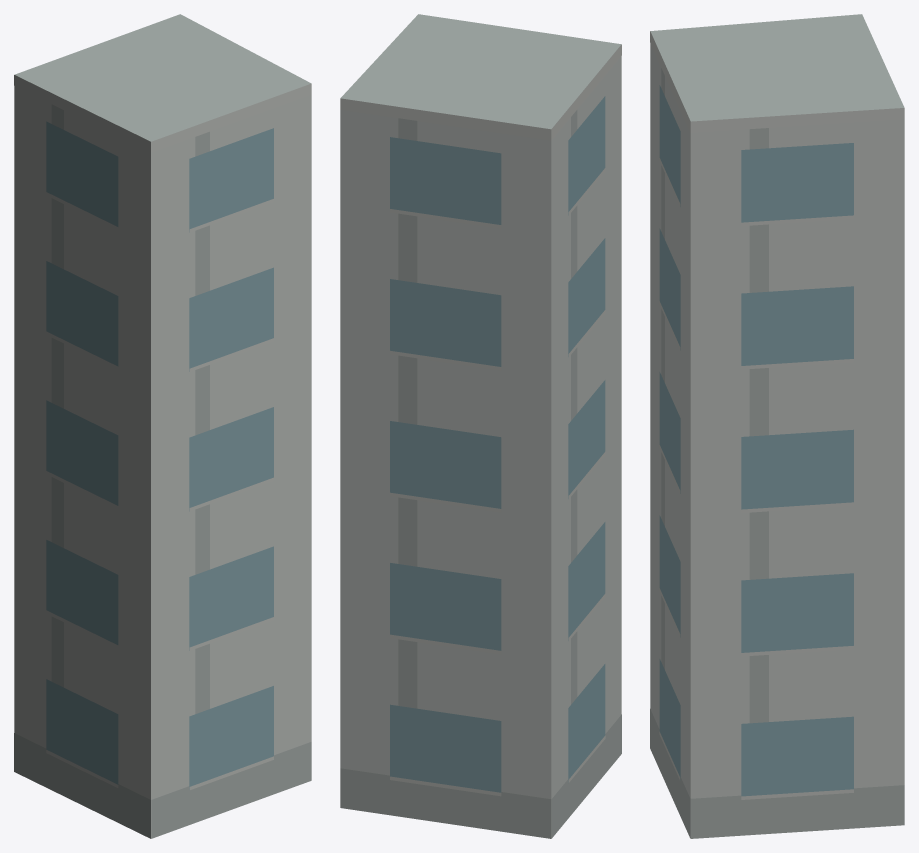
File: survey-upis-32996619.glb
3 views of the same model, side by side, from view 1: azimuth 30°, elevation 25°; view 2: azimuth 150°, elevation 25°; view 3: azimuth 270°, elevation 25° (orthographic). The views are drawn at different scales.
Visible parts, largest first — view 1: survey-upis-32996619.tmp; view 2: survey-upis-32996619.tmp; view 3: survey-upis-32996619.tmp.
Part boxes in pixels (x1,y1,x2,y2): survey-upis-32996619.tmp: (14,14,311,838); survey-upis-32996619.tmp: (340,14,621,838); survey-upis-32996619.tmp: (650,14,904,838).
Size of the model in its own units: 4.91 by 15.25 by 4.91.
